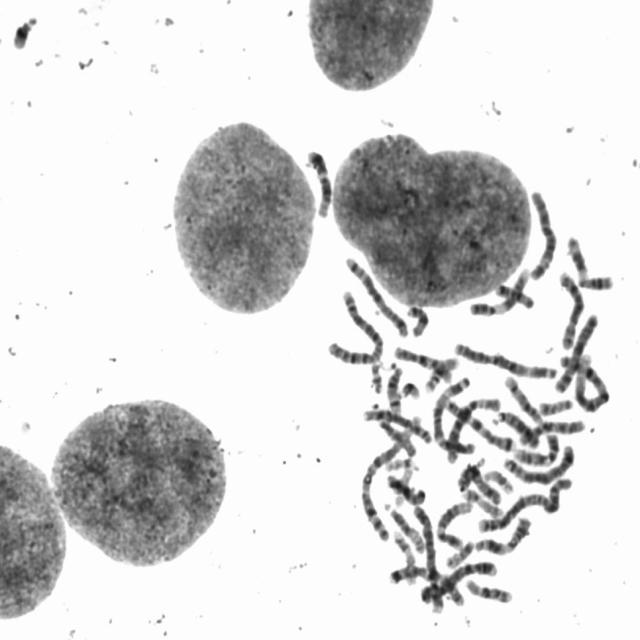A1: (355, 413, 421, 544), (554, 348, 611, 412)
A2: (474, 472, 574, 534), (322, 286, 387, 366)
A3: (448, 334, 560, 381), (426, 371, 474, 455)
B4: (414, 555, 500, 608), (408, 499, 445, 613)
B5: (340, 249, 410, 339), (500, 438, 578, 486)
C10: (389, 340, 456, 383), (514, 412, 588, 448)
C11: (560, 228, 616, 293), (470, 510, 535, 557)
C12: (301, 144, 334, 218), (431, 494, 474, 550)
C6: (439, 394, 508, 456), (524, 183, 558, 282)
C7: (439, 394, 514, 453), (385, 560, 468, 608)
C8: (358, 402, 433, 444), (554, 264, 586, 350)
C9: (464, 261, 532, 318), (509, 426, 562, 467)
D13: (488, 406, 542, 449), (382, 468, 426, 506)
D14: (499, 369, 546, 425), (382, 358, 404, 416)
D15: (360, 400, 420, 460), (382, 498, 428, 554)
E16: (419, 350, 461, 393), (461, 573, 514, 605)
E17: (389, 524, 418, 588), (459, 483, 504, 519)
E18: (491, 277, 537, 310), (402, 300, 431, 338)
F19: (392, 466, 416, 510), (481, 464, 515, 495)
F20: (442, 534, 476, 570), (534, 391, 575, 417)
G21: (7, 8, 40, 51), (396, 376, 422, 400)
G22: (380, 452, 419, 472), (366, 355, 385, 394)
X: (550, 307, 600, 395)
